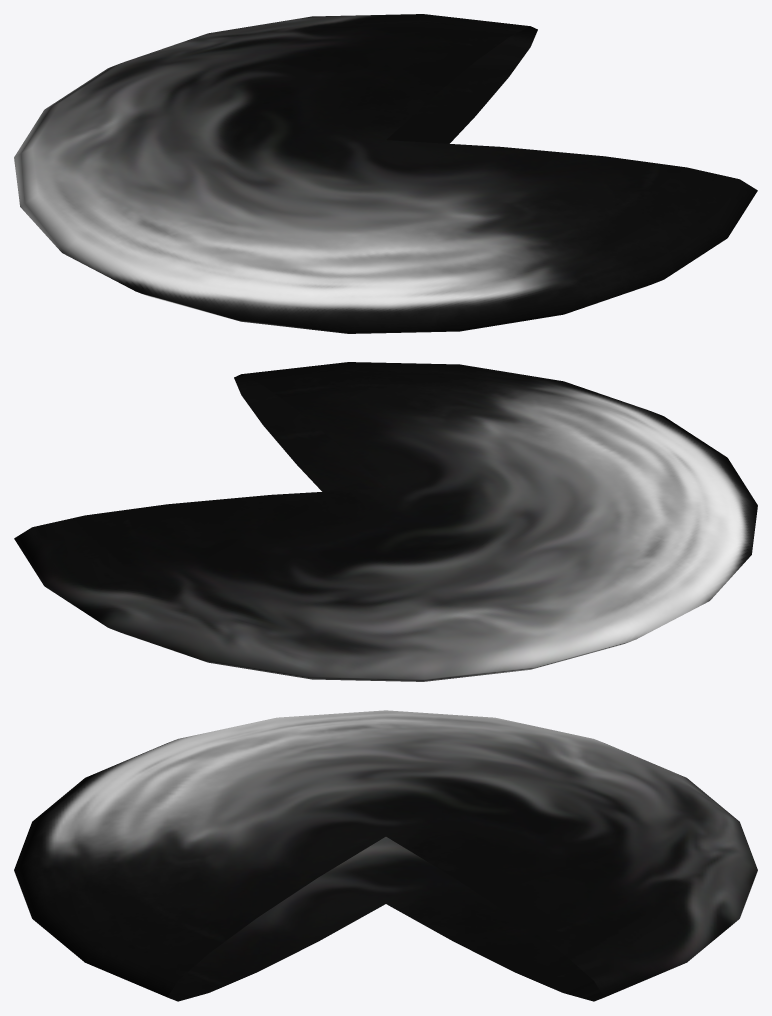
File: daoguang_1.FBX
3 renders of one model, top to bottom at view 1: azimuth 30°, elevation 25°; view 2: azimuth 150°, elevation 25°; view 3: azimuth 270°, elevation 25°, orthographic.
Parts seen in each view (by area): view 1: daoguang_1; view 2: daoguang_1; view 3: daoguang_1.
Boxes of the visible parts, bbox=[...] form: daoguang_1: bbox=[14, 14, 757, 333]; daoguang_1: bbox=[14, 362, 757, 681]; daoguang_1: bbox=[14, 710, 757, 1001].
Size of the model in its own units: 27.14 by 3 by 30.
